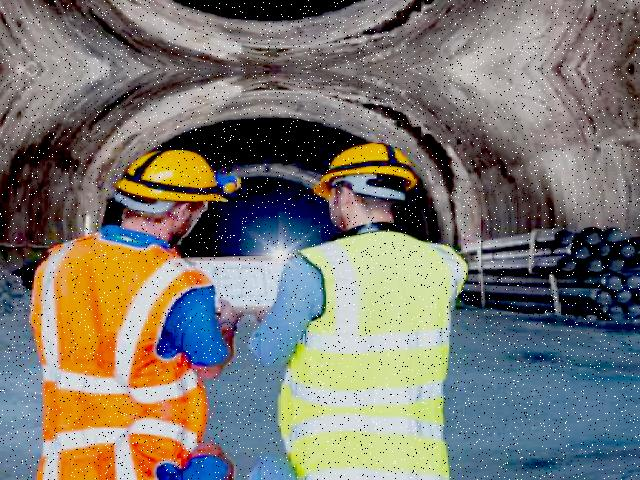Helmet: (109, 144, 242, 211), (308, 137, 422, 209)
